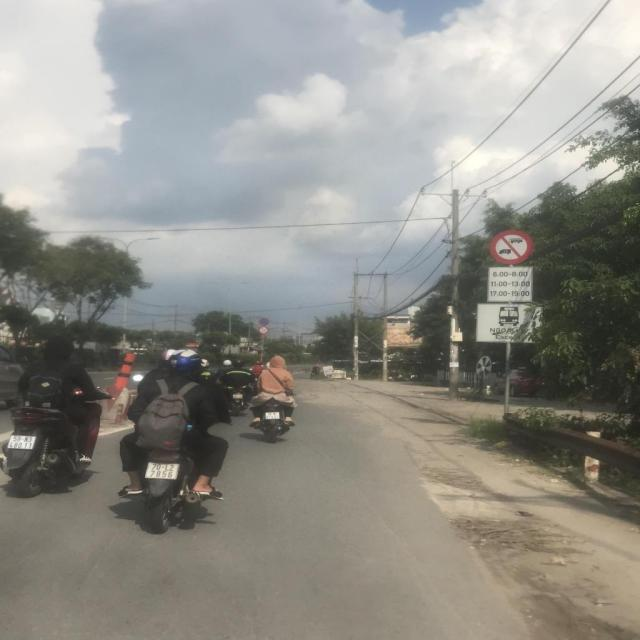cam_dung_xe_va_do_xe: (259, 318, 270, 327)
cam_o_to_tai_va_xe_khach: (490, 229, 534, 264)
cam_xe_2_banh_va_xe_3_banh_co_dong_co: (258, 326, 269, 334)
khac: (476, 304, 543, 343), (487, 267, 533, 302)
